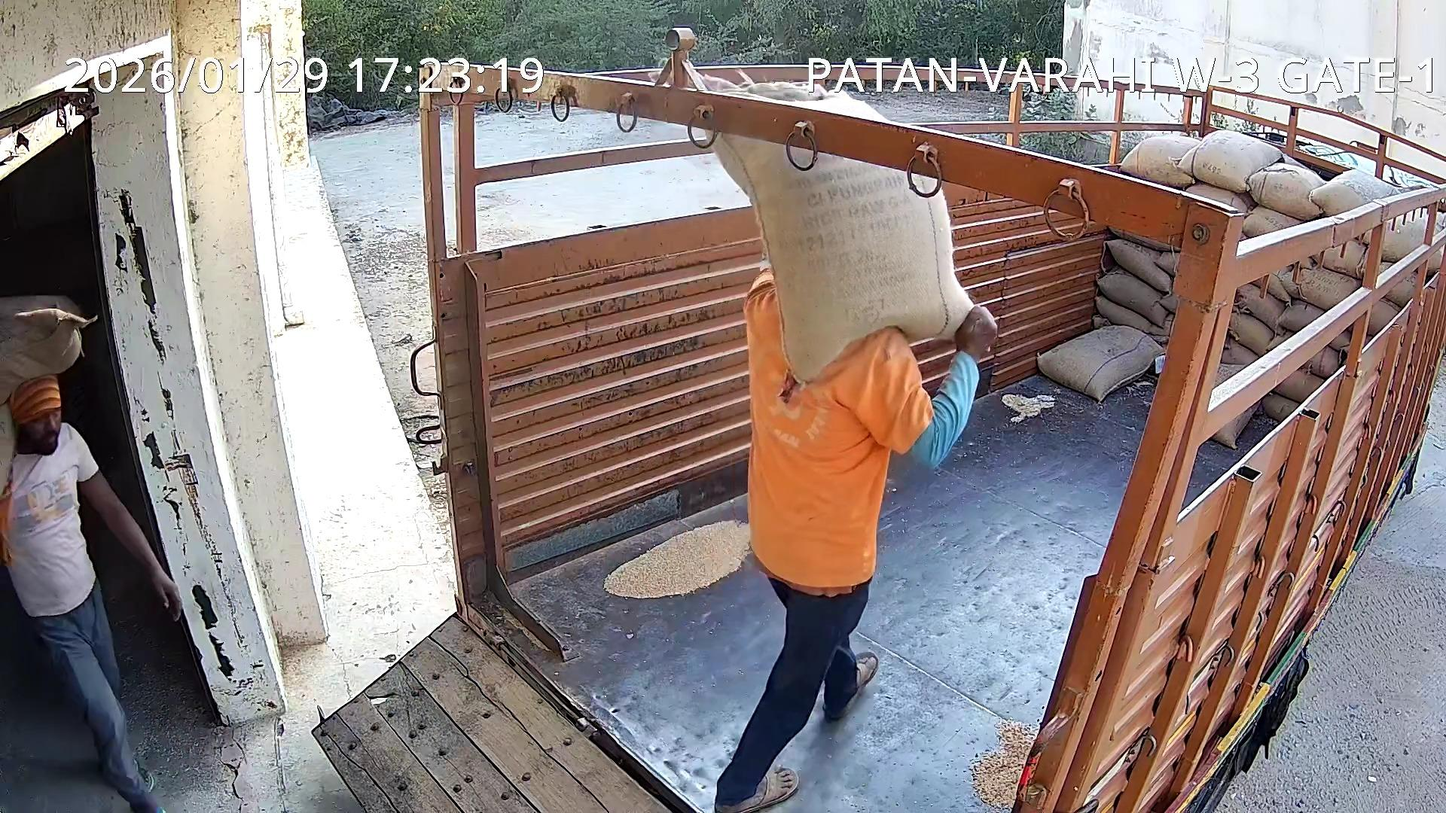Sack: (707, 80, 972, 382), (0, 297, 96, 404), (0, 413, 14, 465)
